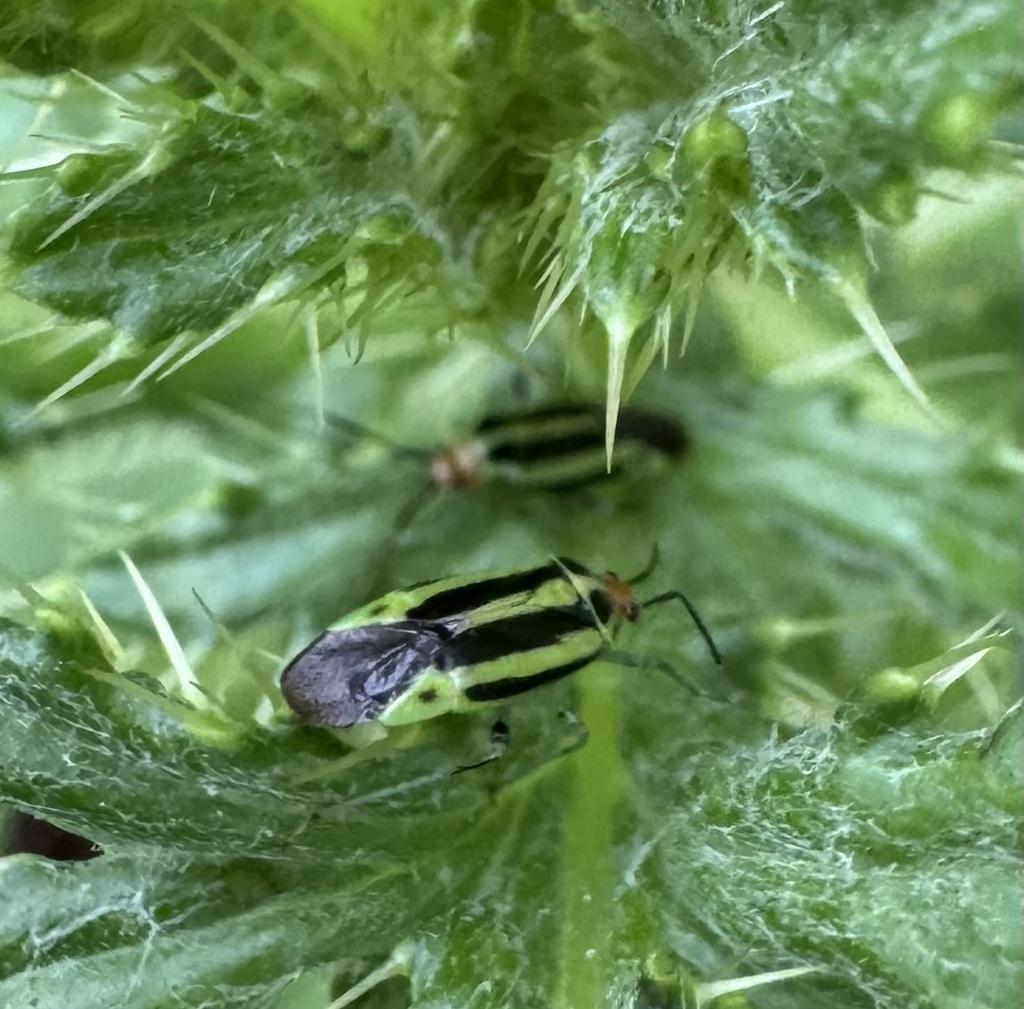plant_bugs: (234, 511, 757, 793), (394, 369, 720, 531)
